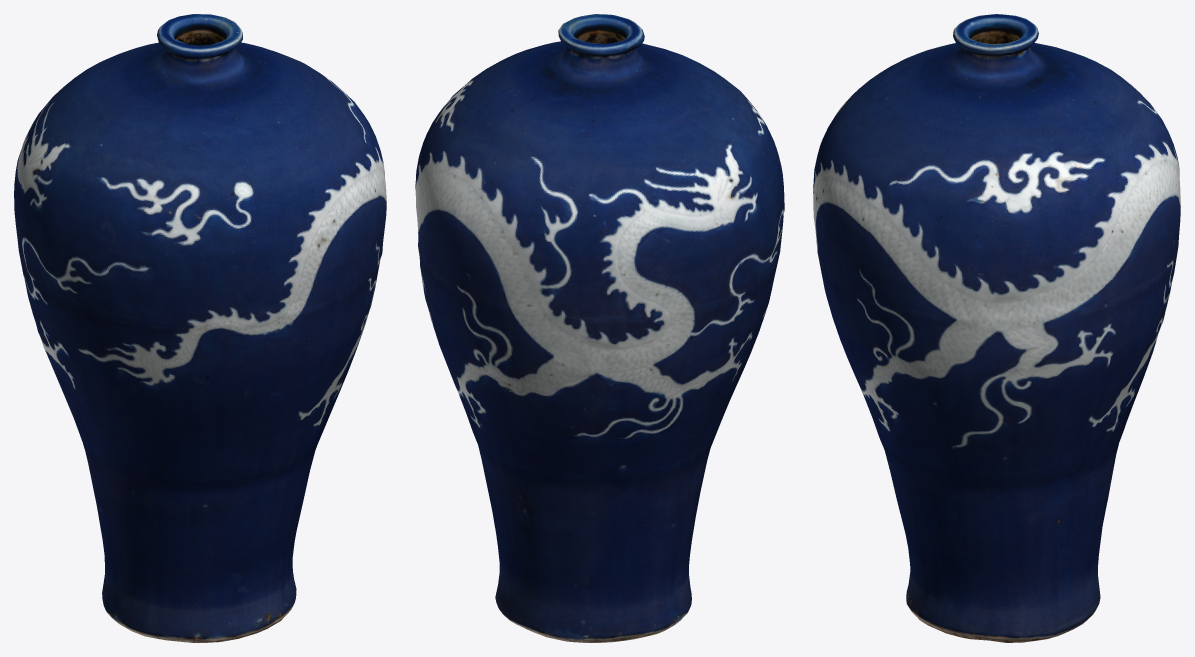
The picture shows the model from 3 angles, left to right: view 1: azimuth 30°, elevation 25°; view 2: azimuth 150°, elevation 25°; view 3: azimuth 270°, elevation 25°; orthographic projection.
Visible parts, largest first — view 1: G1211_low; view 2: G1211_low; view 3: G1211_low.
Part boxes in pixels (x1,y1,x2,y2): G1211_low: (14,14,386,642); G1211_low: (415,14,784,642); G1211_low: (813,14,1180,642).
Bounding box in the file's own units: 10.78 × 18.48 × 10.69.
Materials: 1 (1 with a texture image).
